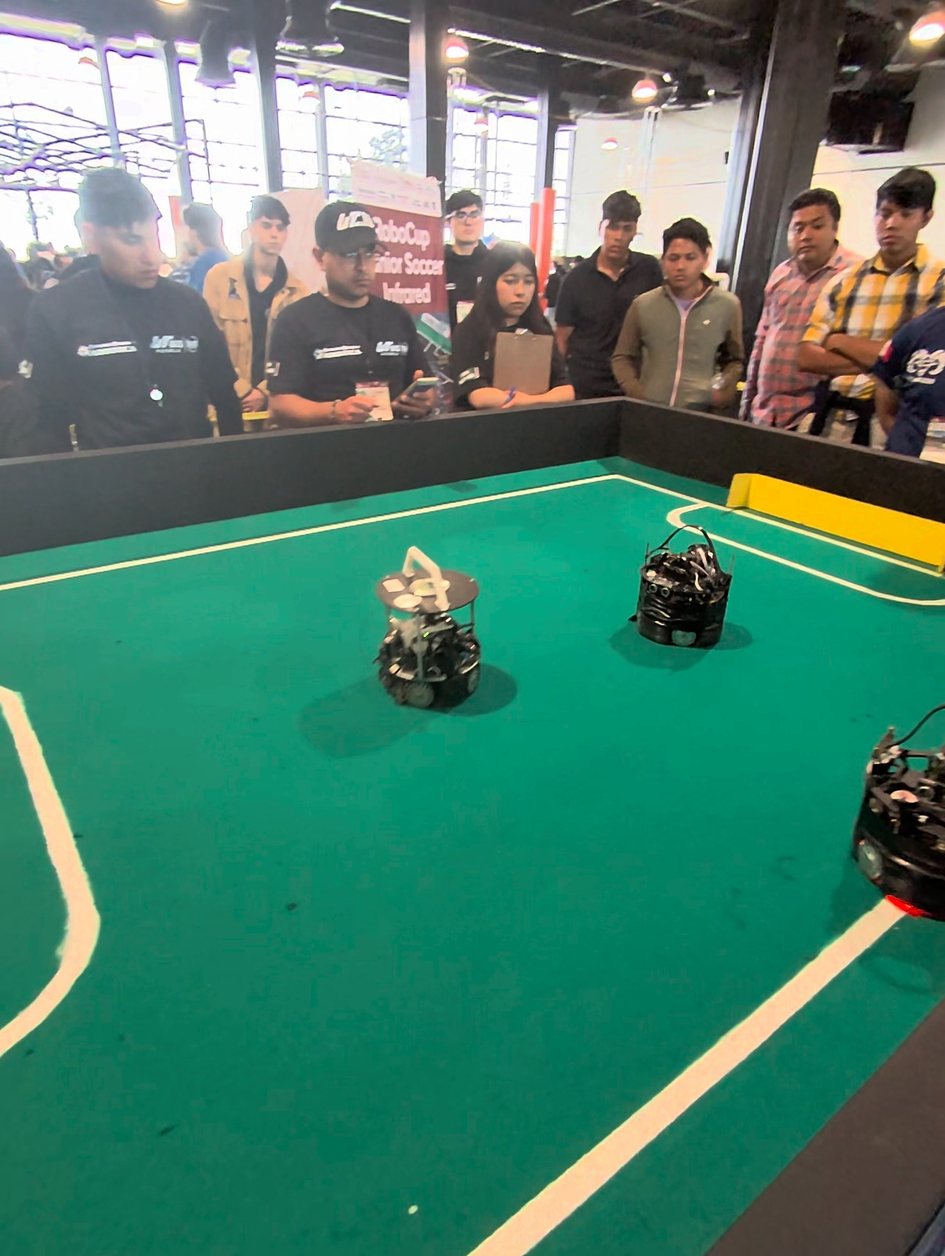Robot: (850, 684, 942, 939), (364, 540, 490, 720), (630, 522, 733, 663)
